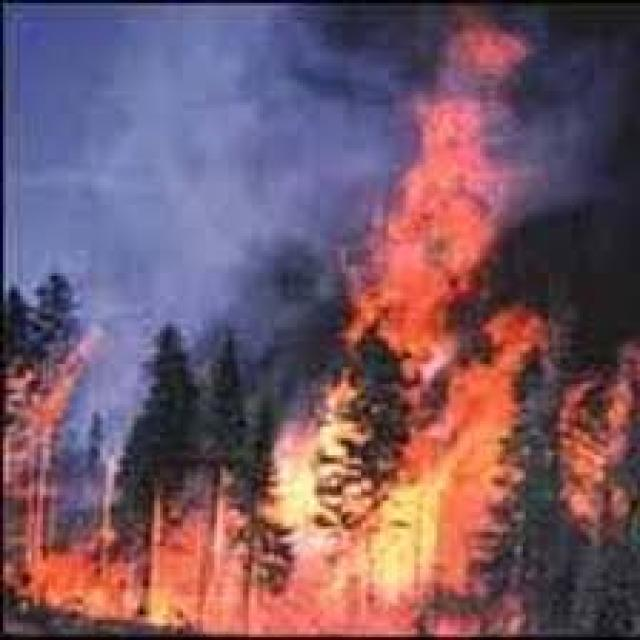Fire: (152, 378, 558, 634), (317, 4, 574, 374), (7, 336, 153, 624), (565, 332, 640, 577)
